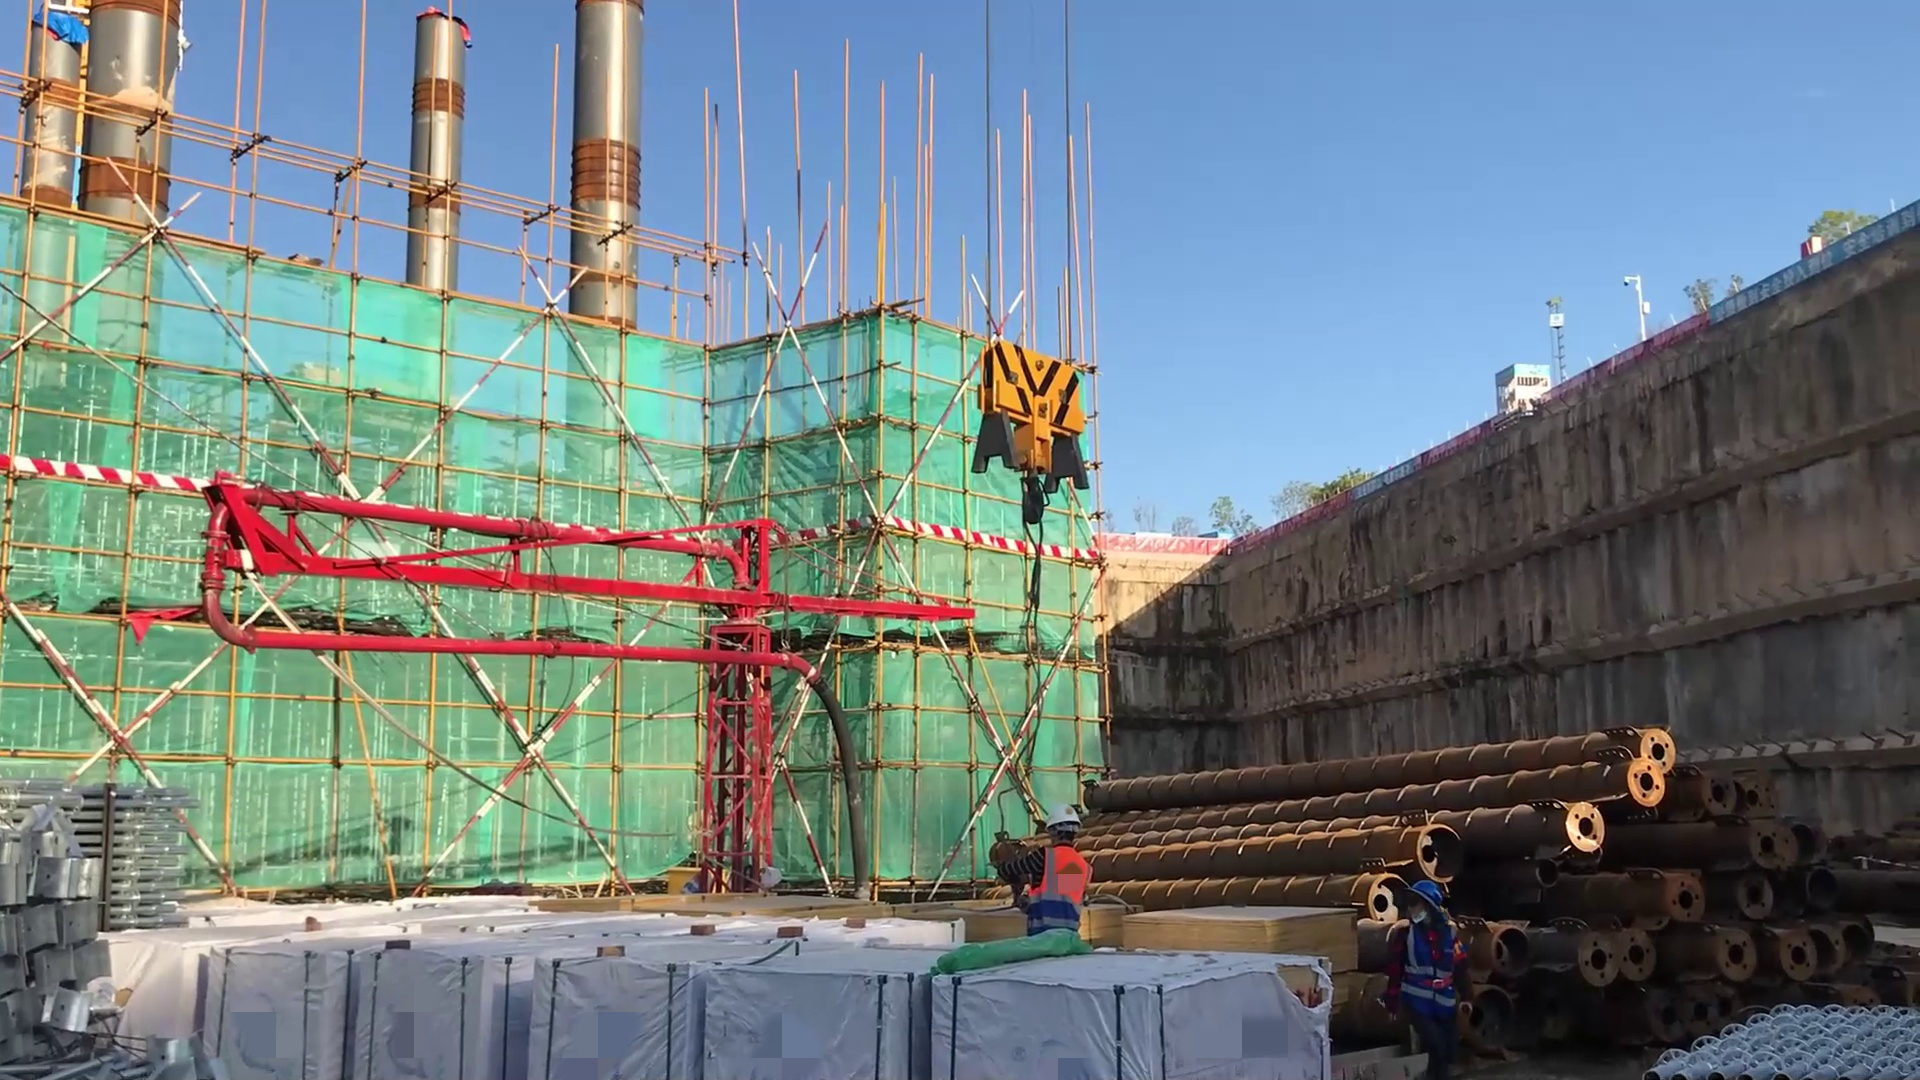board: (1118, 894, 1365, 986), (1080, 899, 1145, 950)
ebox: (655, 855, 736, 910)
helmet: (1402, 879, 1452, 932), (1045, 799, 1081, 857)
hook: (962, 331, 1102, 581)
person: (1373, 879, 1488, 1080), (986, 800, 1100, 983)
scaffold: (61, 776, 227, 931)
slogan: (1684, 197, 1920, 335), (1347, 455, 1419, 517)
vest: (1020, 842, 1094, 943), (1399, 920, 1460, 1024)
